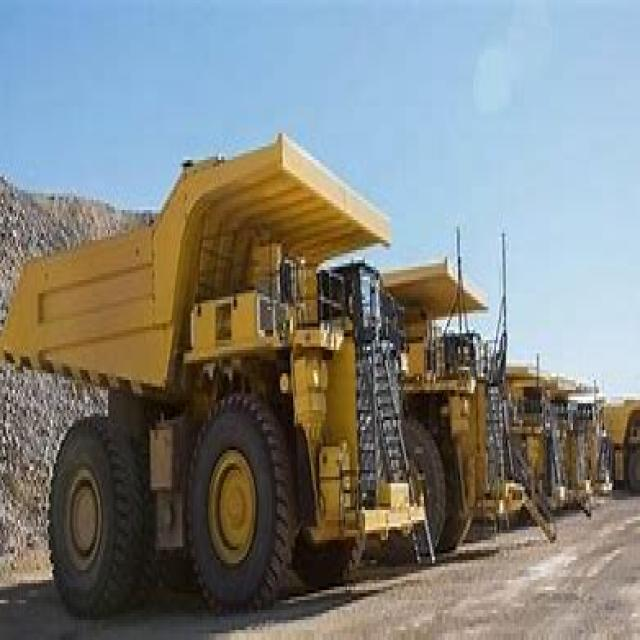dump_truck: (28, 113, 424, 590), (426, 223, 516, 540)
